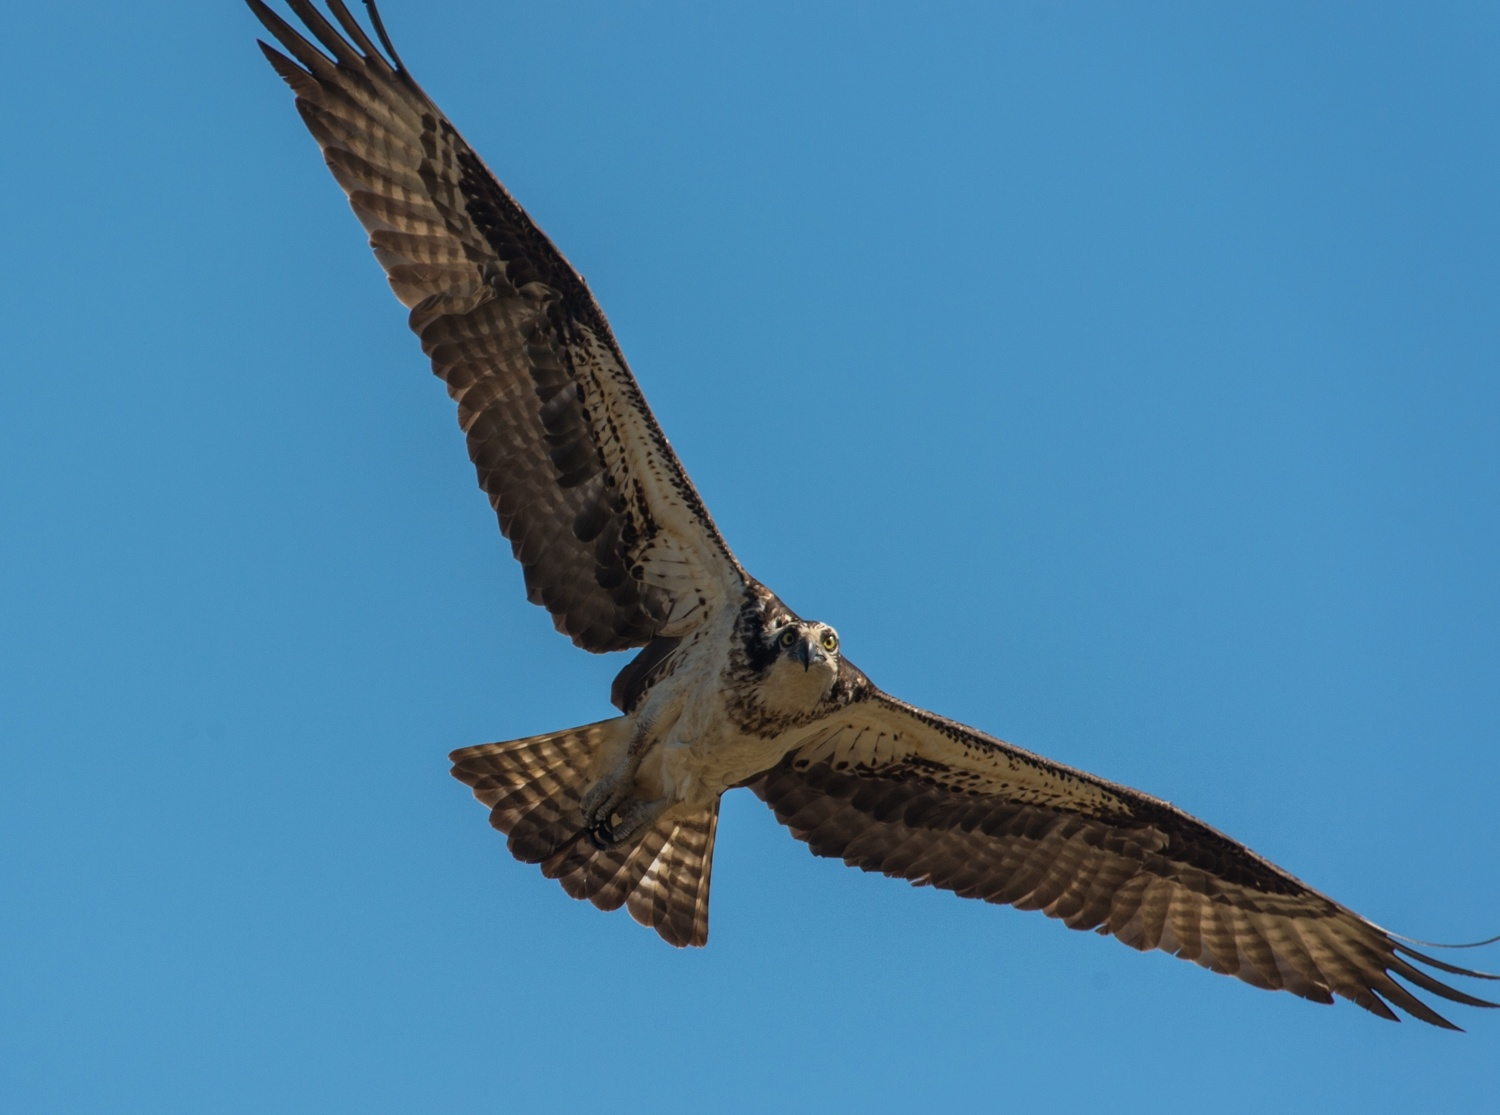bird: (244, 1, 1477, 1037)
